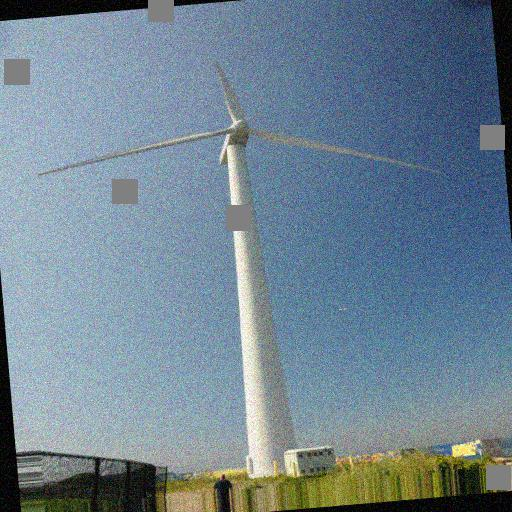wind turbine: (36, 60, 443, 481)
